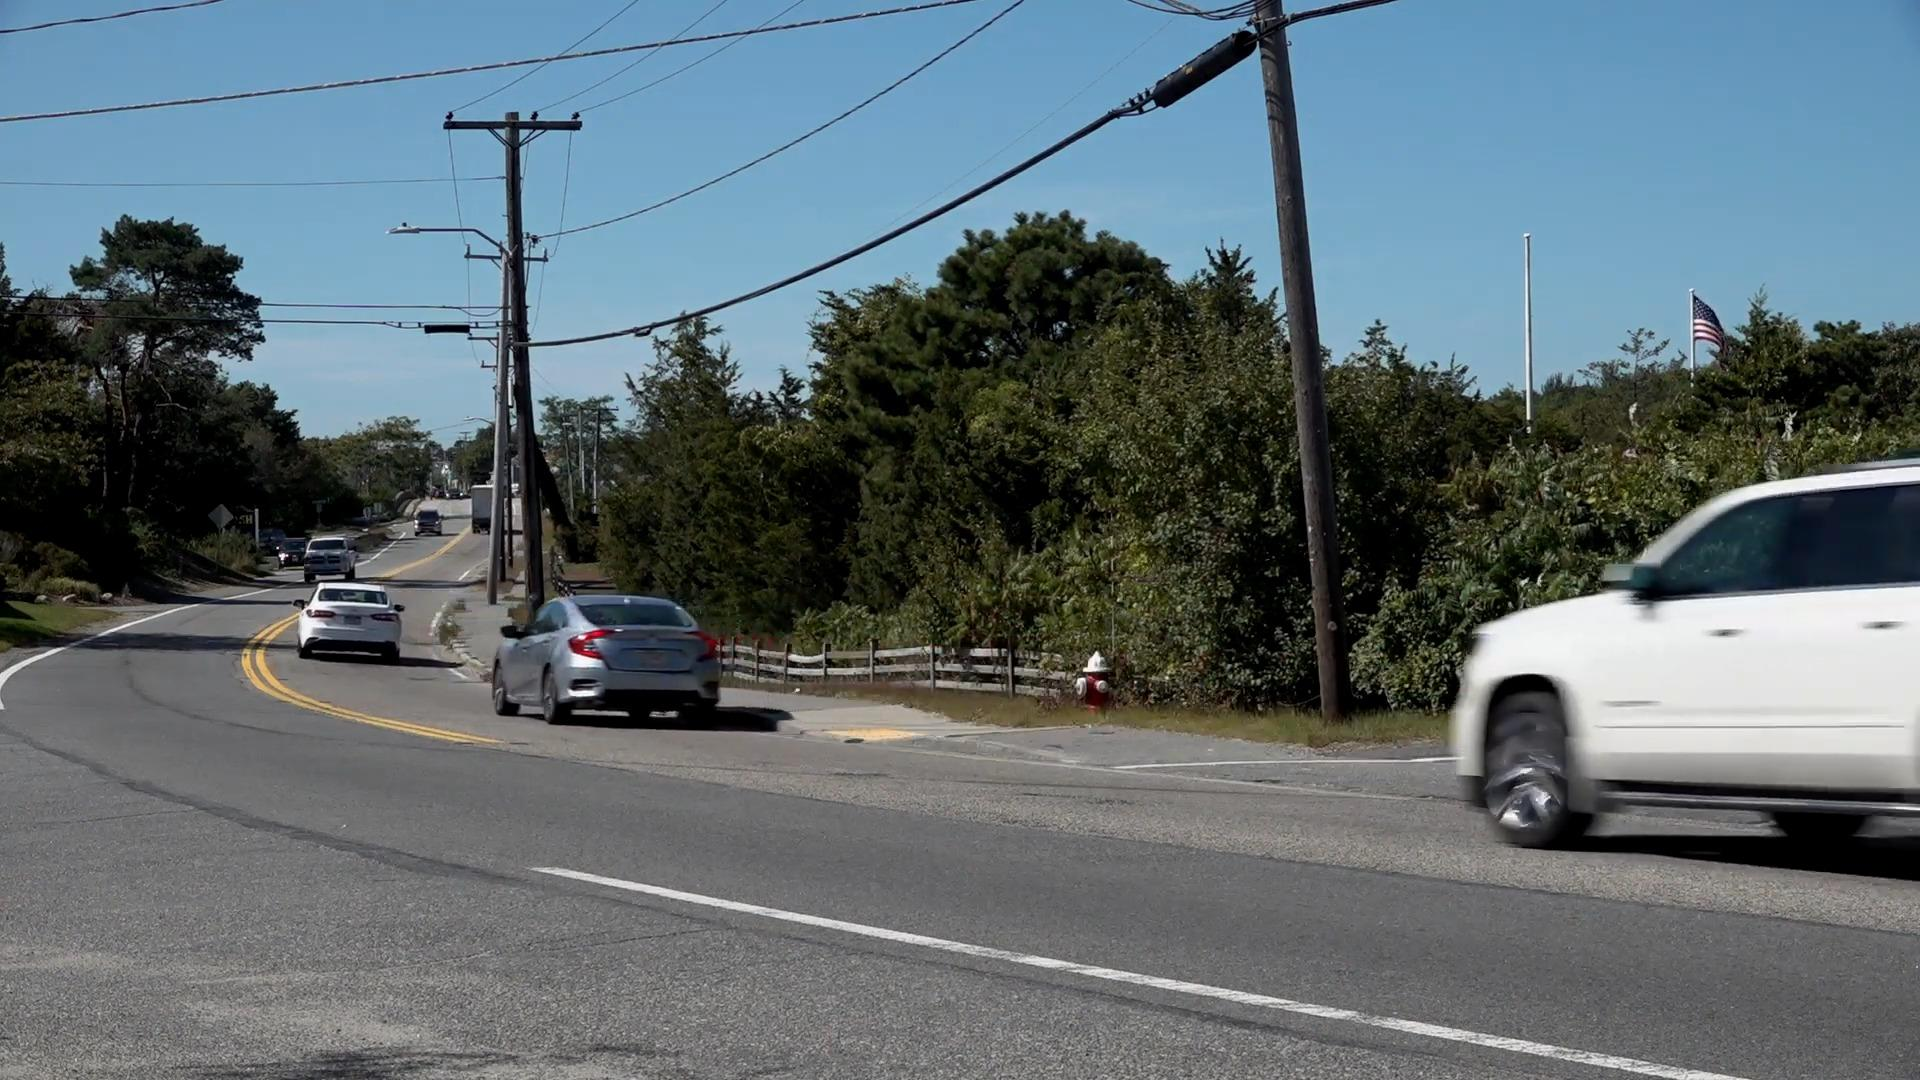sedans: (488, 588, 728, 731), (287, 575, 410, 659)
suv: (1445, 450, 1920, 841)
